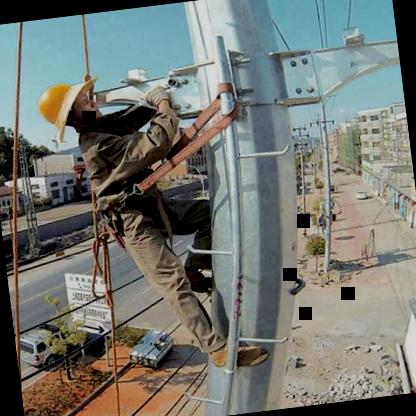helmet: (28, 71, 108, 141)
